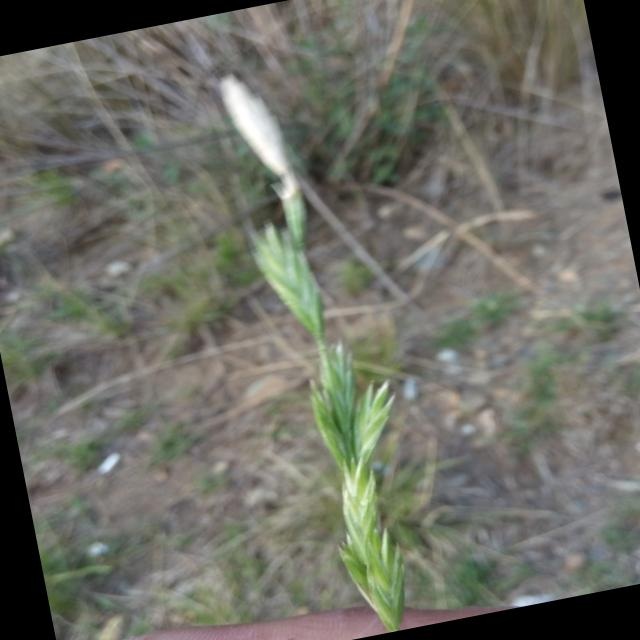Lolium: (208, 53, 445, 640)
